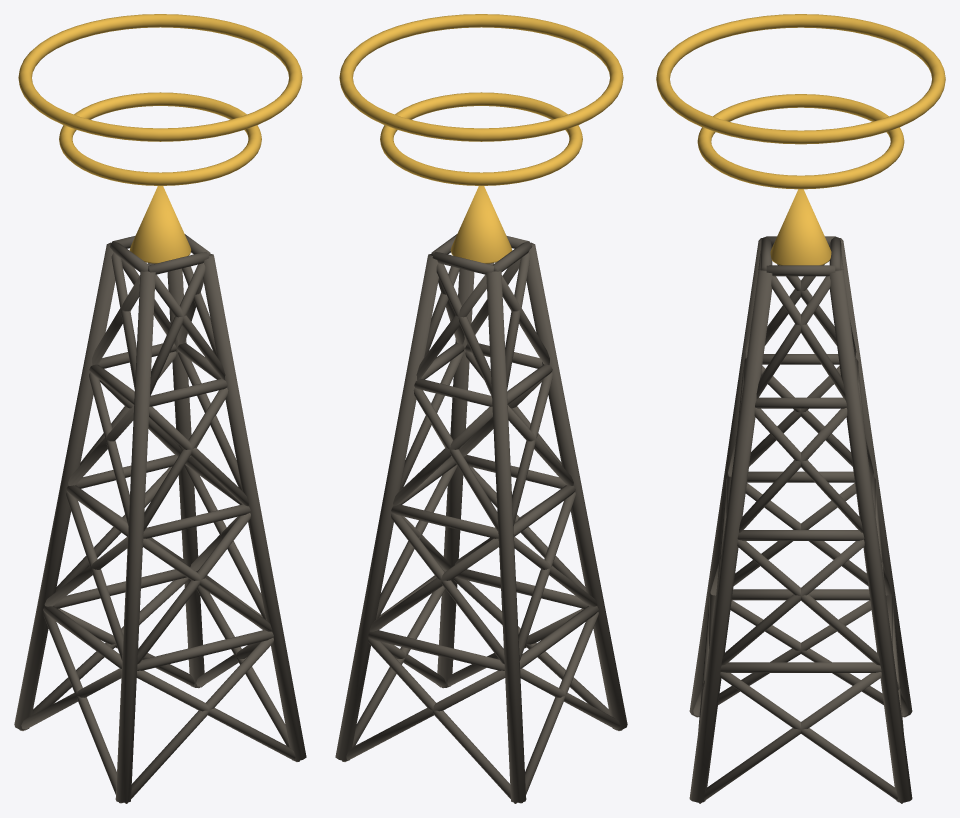
Rendered from comunicacoes.glb.
3 renders of one model, left to right at view 1: azimuth 30°, elevation 25°; view 2: azimuth 150°, elevation 25°; view 3: azimuth 270°, elevation 25°, orthographic.
Parts seen in each view (by area): view 1: Torre, Onda2, Onda1, Ponta; view 2: Torre, Onda2, Onda1, Ponta; view 3: Torre, Onda2, Onda1, Ponta.
Boxes of the visible parts, x1,y1,x2,y2 form: Torre: (14, 234, 306, 803); Onda2: (18, 14, 302, 141); Onda1: (59, 92, 261, 185); Ponta: (129, 186, 191, 263); Torre: (335, 234, 627, 803); Onda2: (339, 14, 623, 141); Onda1: (380, 92, 582, 185); Ponta: (450, 186, 512, 263); Torre: (689, 236, 912, 803); Onda2: (656, 14, 945, 144); Onda1: (697, 94, 904, 189); Ponta: (770, 189, 831, 265).
Bounding box in the file's own units: 0.3821 × 1 × 0.3821.
